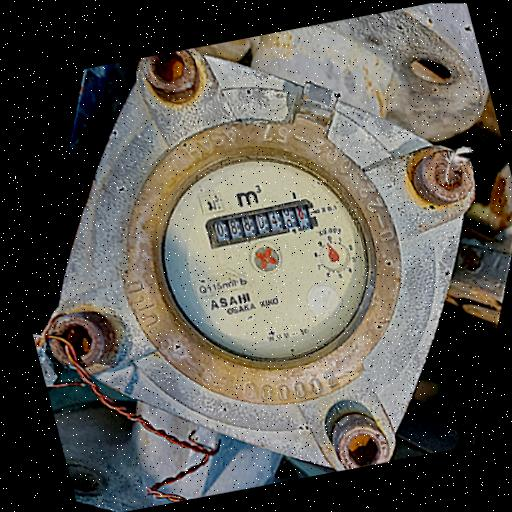0: (213, 219, 230, 242), (254, 211, 269, 233)
4: (267, 208, 283, 230)
8: (294, 204, 310, 230), (281, 205, 297, 228), (227, 217, 242, 239), (241, 215, 256, 236)
border_water_meter_number: (201, 196, 322, 250)
